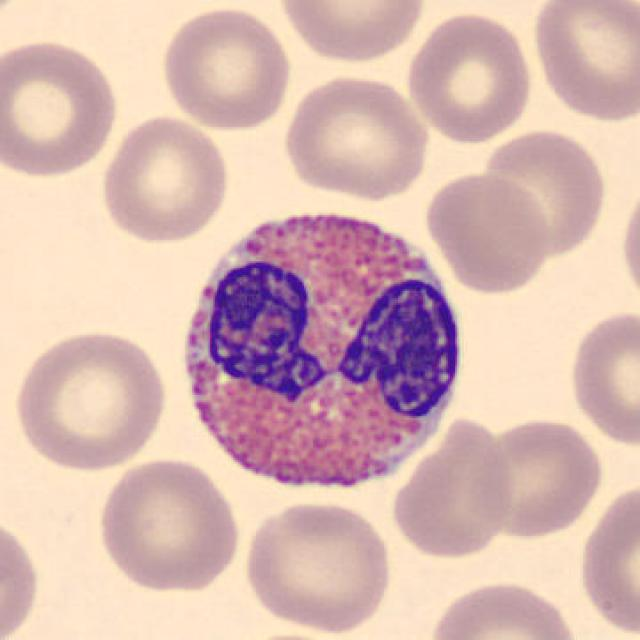Eosinophil: (162, 185, 474, 515)
RBC: (9, 326, 171, 473), (238, 497, 396, 635), (92, 453, 244, 594), (279, 70, 434, 202), (388, 412, 519, 562), (96, 111, 233, 245), (403, 9, 537, 144), (0, 35, 123, 182), (478, 125, 610, 261), (468, 413, 606, 541), (157, 4, 295, 132), (421, 168, 553, 294), (528, 0, 638, 125), (564, 305, 638, 450), (574, 476, 638, 638), (423, 576, 583, 640), (274, 0, 430, 65), (0, 509, 44, 640), (617, 176, 640, 314), (234, 629, 348, 640), (0, 0, 32, 39)
